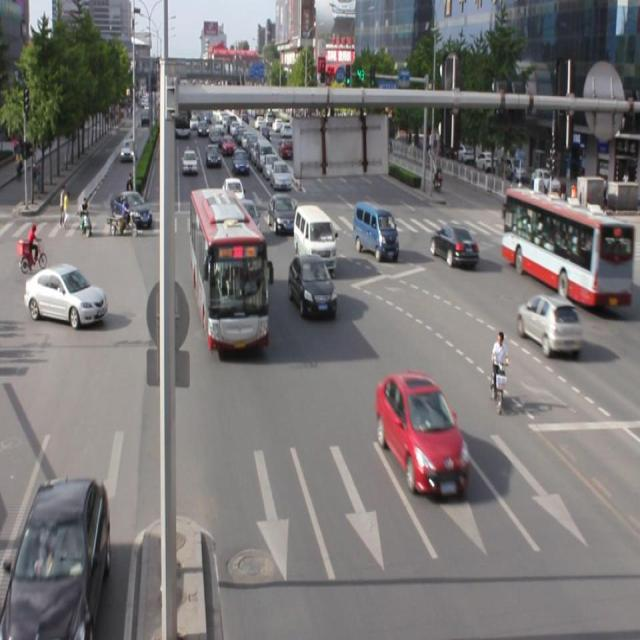car: (1, 475, 109, 640), (376, 371, 468, 497), (518, 293, 582, 355), (288, 253, 336, 318), (428, 222, 478, 268)
truck: (293, 205, 336, 274), (351, 201, 398, 260)
van: (502, 188, 630, 306), (190, 188, 267, 348)
